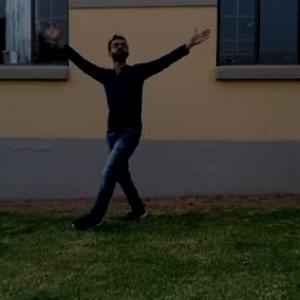takeoff: (41, 24, 203, 230)
